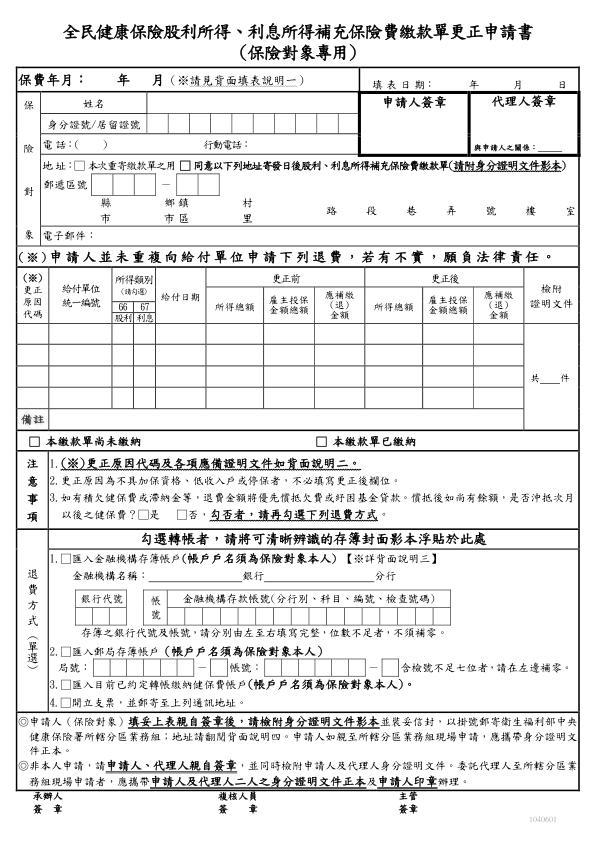table: (11, 65, 580, 792)
text: (56, 19, 538, 42), (235, 41, 361, 61), (215, 790, 259, 816), (28, 789, 66, 819), (396, 792, 419, 818)
